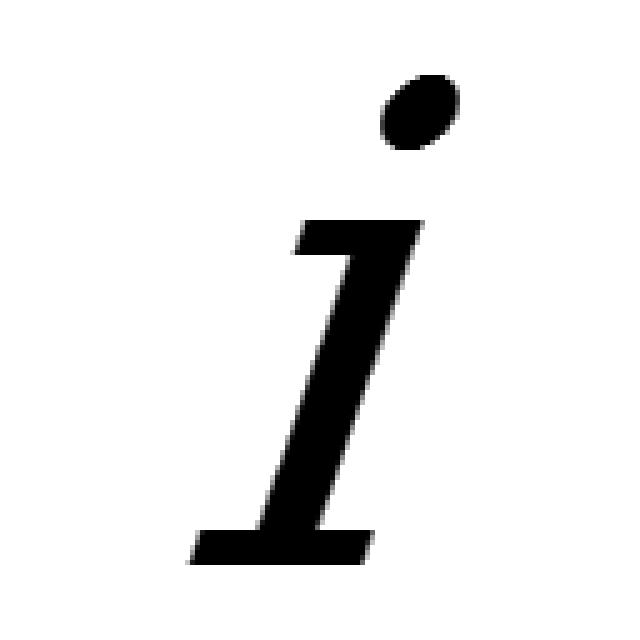I: (172, 70, 467, 579)
